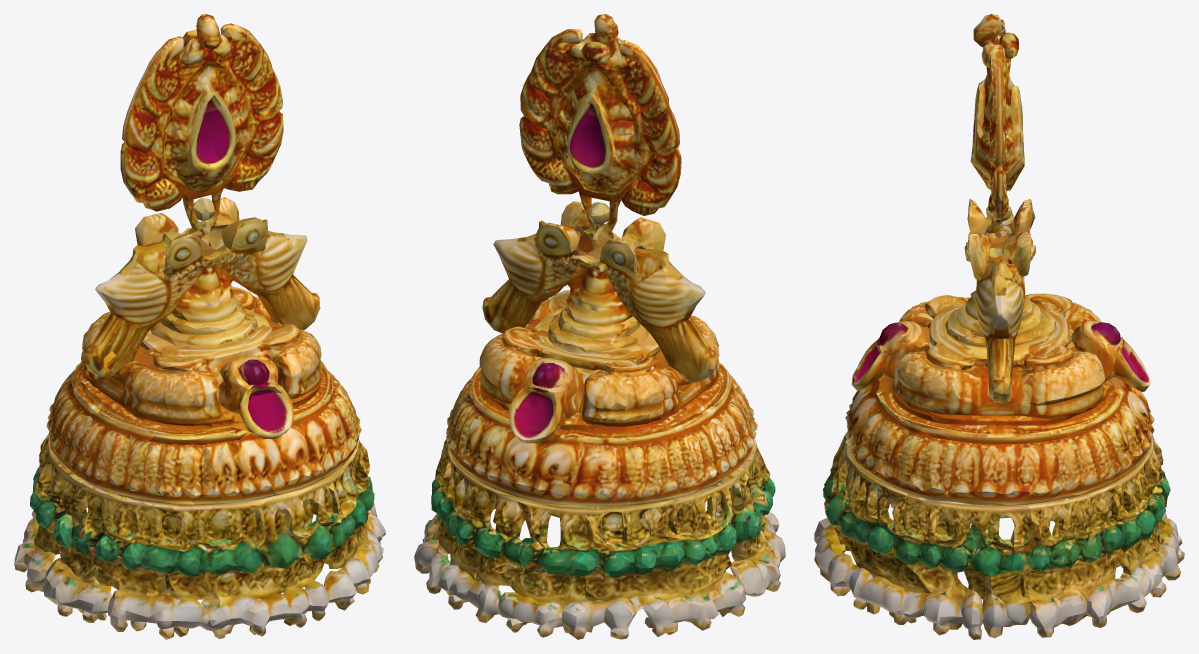
File: jhumka_4.glb
3 renders of one model, left to right at view 1: azimuth 30°, elevation 25°; view 2: azimuth 150°, elevation 25°; view 3: azimuth 270°, elevation 25°, orthographic.
Parts seen in each view (by area): view 1: jhumka_4; view 2: jhumka_4; view 3: jhumka_4.
Part boxes in pixels (left/top/right/bottom): jhumka_4: left=14, top=14, right=385, bottom=639; jhumka_4: left=414, top=14, right=785, bottom=639; jhumka_4: left=814, top=14, right=1184, bottom=639.
Bounding box in the file's own units: 0.6026 × 0.9811 × 0.5962.
Materials: 1 (1 with a texture image).
